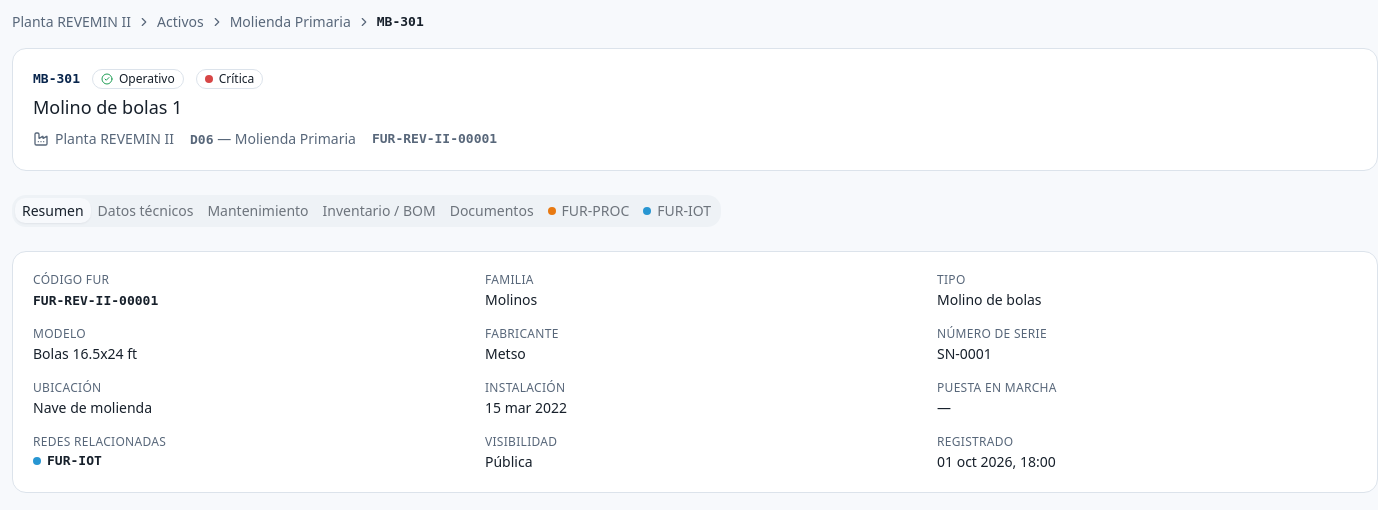
Test: Ficha FUR del activo › pestañas por red (variables del fabricante) › una red sin variables lo explica
Click the tab "FUR-PROC" at (588, 211), box x1=541 y1=198 x2=636 y2=223
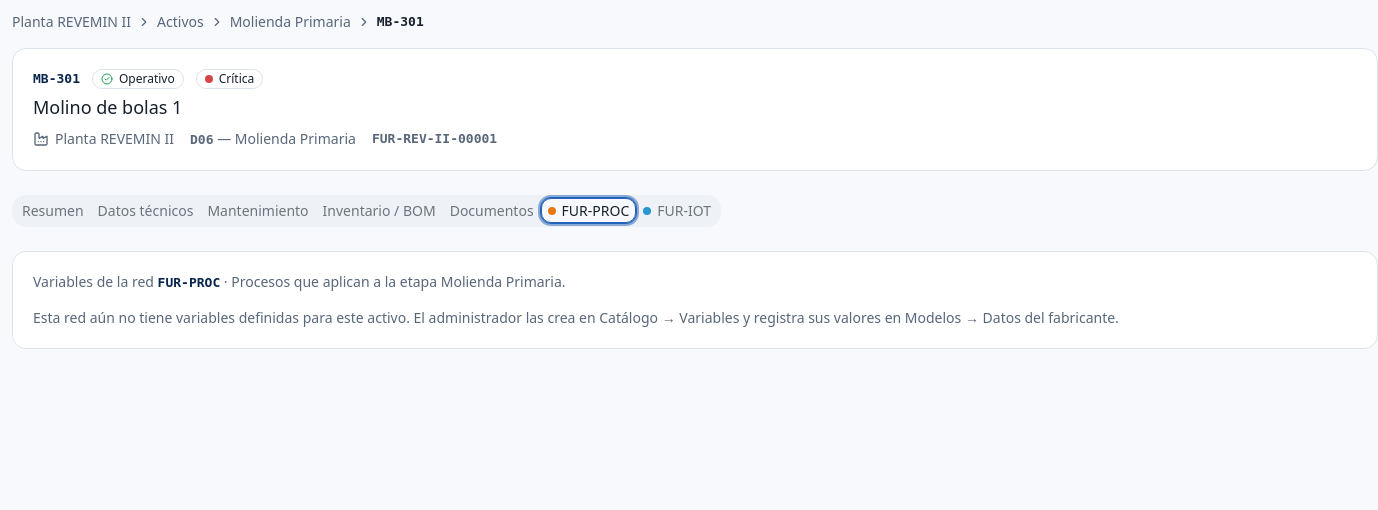
Result: the text "aún no tiene variables definidas para este activo" is shown at x1=33 y1=308 x2=1119 y2=327
